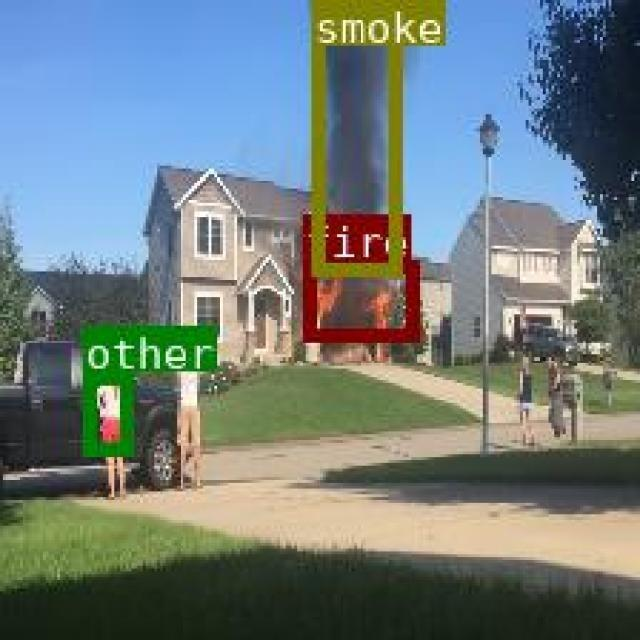fire: (302, 258, 415, 340)
smoke: (308, 0, 397, 271)
